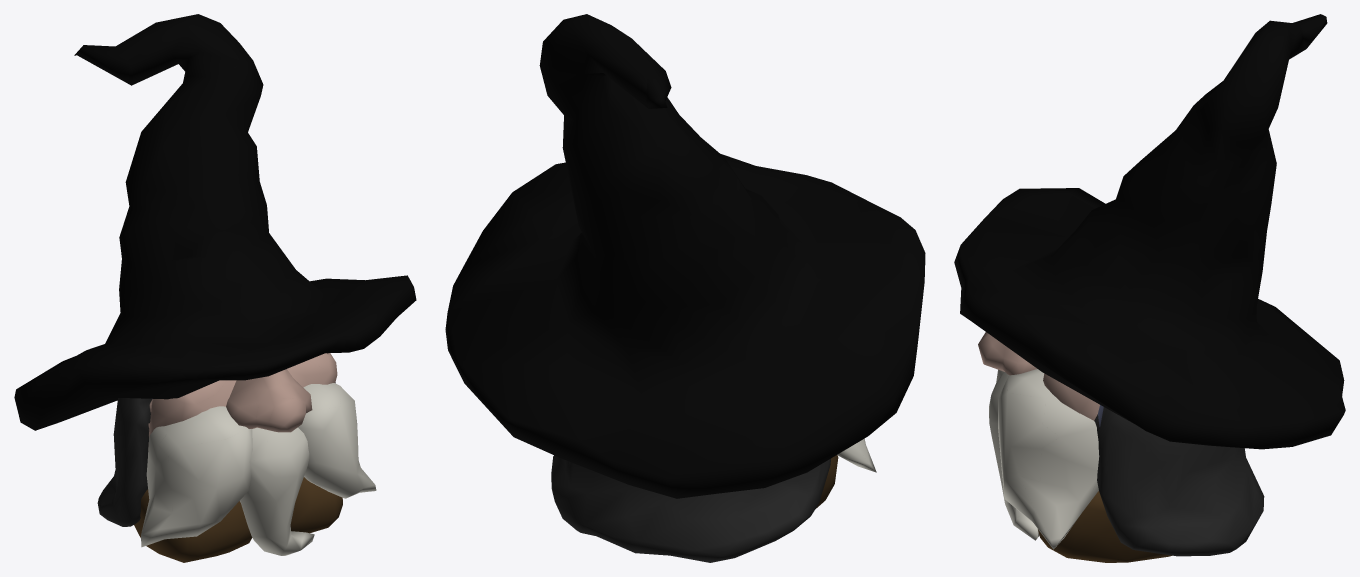
The model's file is witch.dae.
3 renders of one model, left to right at view 1: azimuth 30°, elevation 25°; view 2: azimuth 150°, elevation 25°; view 3: azimuth 270°, elevation 25°, orthographic. The views are drawn at different scales.
Parts seen in each view (by area): view 1: Icosphere.002; view 2: Icosphere.002; view 3: Icosphere.002.
Boxes of the visible parts, box(x1,y1,x2,y2) form: Icosphere.002: box(14, 14, 416, 562); Icosphere.002: box(445, 14, 925, 562); Icosphere.002: box(954, 14, 1345, 562).
Bounding box in the file's own units: 3.93 × 3.28 × 4.77.
Materials: 1 (1 with a texture image).
